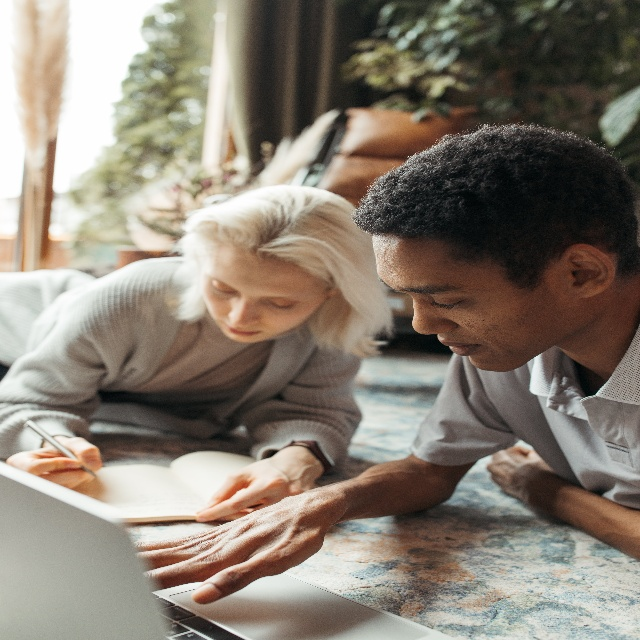Sin_guantes: (134, 487, 324, 605), (195, 446, 318, 523), (5, 436, 102, 490), (487, 444, 548, 501)
